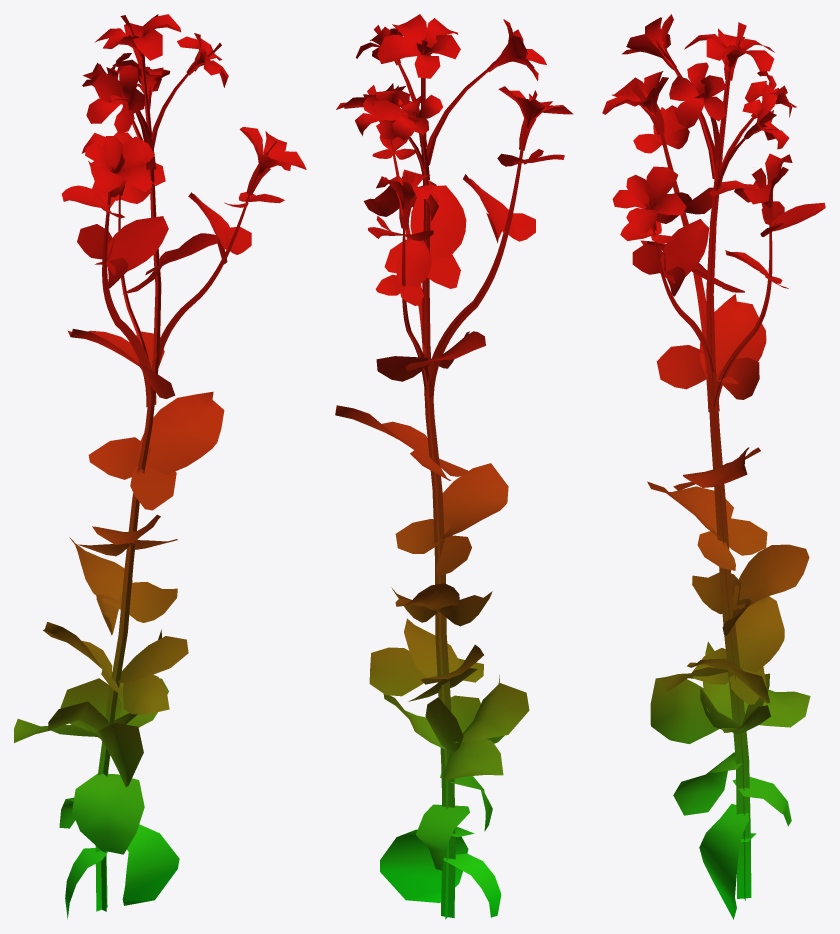
File: Var1_LOD0.fbx
The picture shows the model from 3 angles, left to right: view 1: azimuth 30°, elevation 25°; view 2: azimuth 150°, elevation 25°; view 3: azimuth 270°, elevation 25°; orthographic projection.
Visible parts, largest first — view 1: _a864_Var1_LOD0; view 2: _a864_Var1_LOD0; view 3: _a864_Var1_LOD0.
Part boxes in pixels (x1,y1,x2,y2): _a864_Var1_LOD0: (14,14,306,919); _a864_Var1_LOD0: (335,14,573,919); _a864_Var1_LOD0: (602,14,825,919).
Size of the model in its own units: 39.15 by 144 by 33.03.
